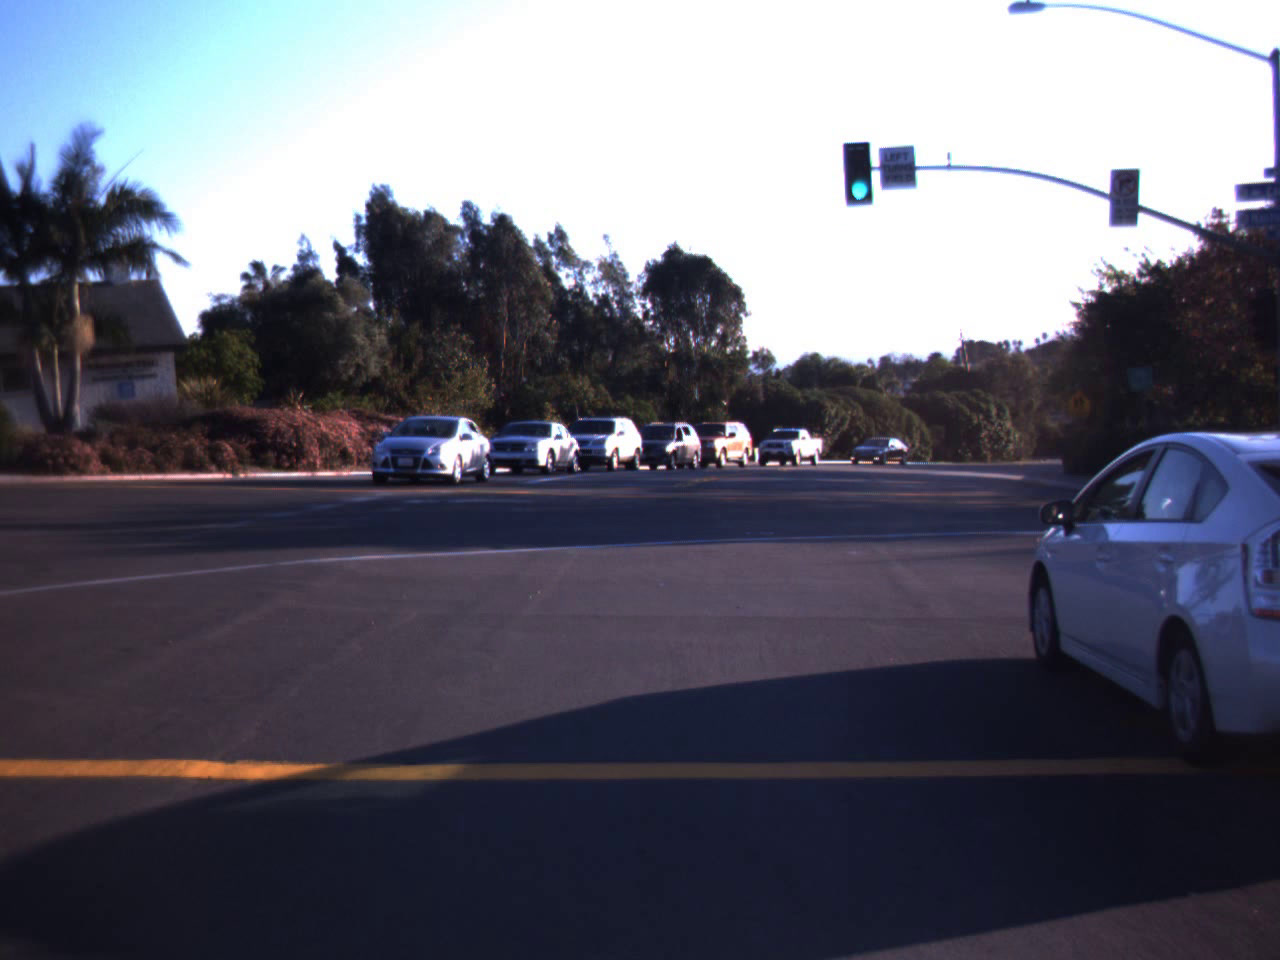go: (837, 127, 882, 207)
